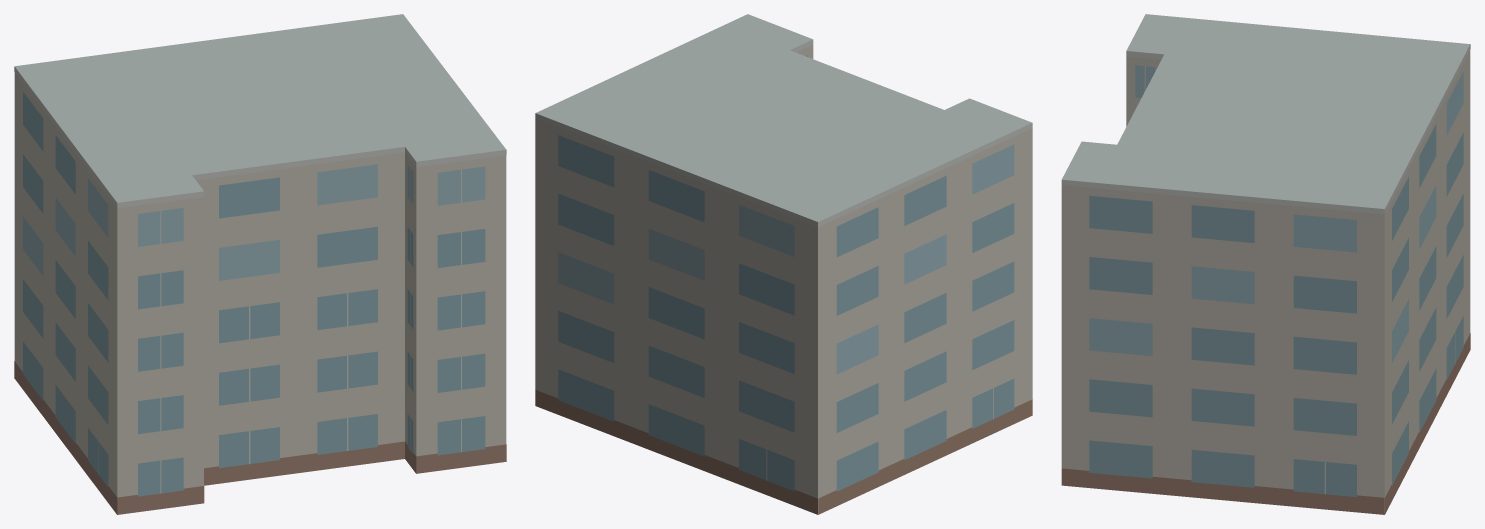
Rendered from survey-upis-32601718.glb.
The picture shows the model from 3 angles, left to right: view 1: azimuth 30°, elevation 25°; view 2: azimuth 150°, elevation 25°; view 3: azimuth 270°, elevation 25°; orthographic projection. The views are drawn at different scales.
Parts seen in each view (by area): view 1: survey-upis-32601718.tmp; view 2: survey-upis-32601718.tmp; view 3: survey-upis-32601718.tmp.
Boxes of the visible parts, x1=… form: survey-upis-32601718.tmp: x1=14, y1=14, x2=506, y2=514; survey-upis-32601718.tmp: x1=535, y1=14, x2=1032, y2=514; survey-upis-32601718.tmp: x1=1061, y1=14, x2=1470, y2=514.
Size of the model in its own units: 18.89 by 13.8 by 16.73.
